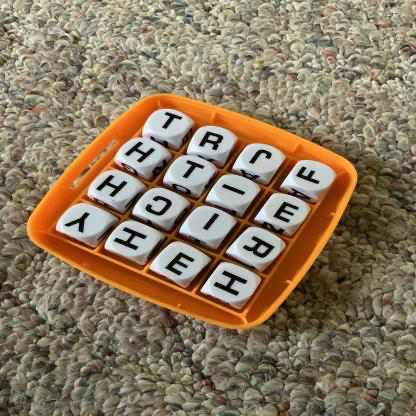c: (141, 189, 177, 218)
e: (163, 246, 200, 284), (268, 197, 303, 228)
f: (293, 163, 334, 188)
h: (210, 265, 255, 302), (120, 134, 166, 170), (90, 169, 133, 203), (111, 220, 152, 255)
i: (214, 177, 254, 206), (198, 207, 228, 235)
j: (242, 145, 287, 172)
r: (240, 231, 281, 265), (195, 130, 235, 154)
t: (152, 106, 192, 138), (175, 157, 210, 185)
y: (56, 204, 99, 239)
